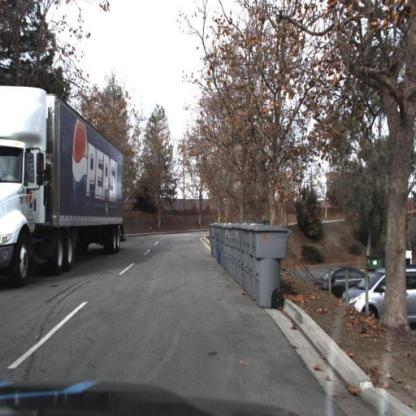car: (342, 270, 416, 328), (305, 264, 375, 303)
truck: (2, 82, 127, 282)
